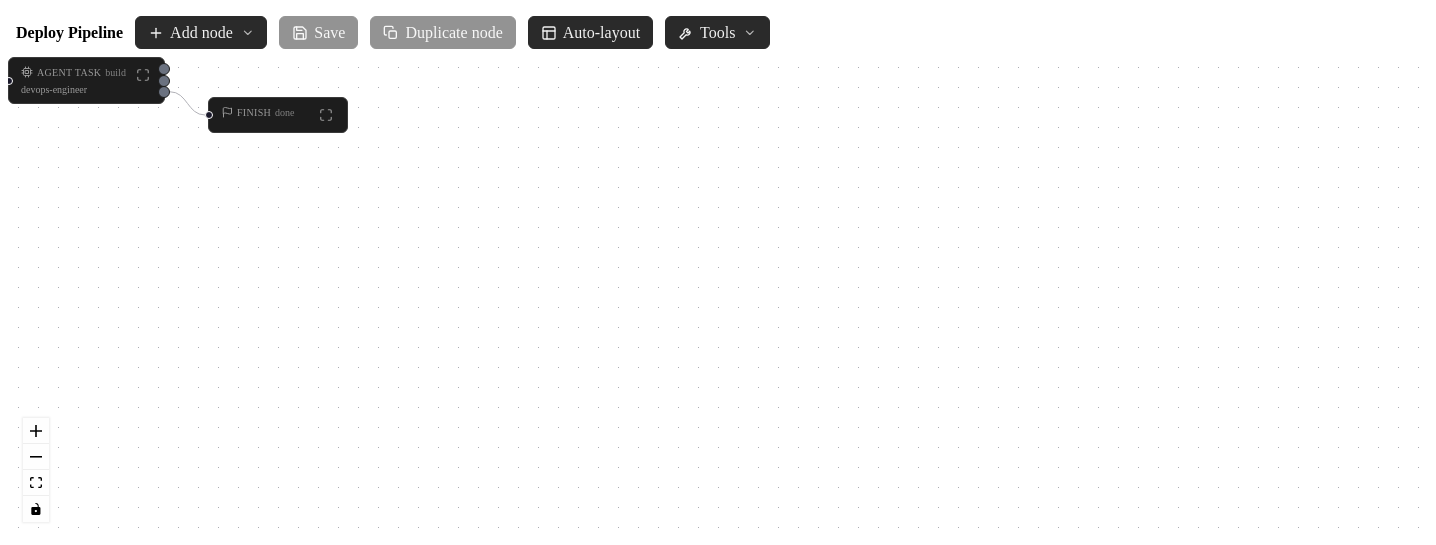
Test: FlowEditor › shows no toast when a save succeeds
The image size is (1436, 545).
What coordinates should you click on to do the following:
click the button "Auto-layout"
I would click on:
 (590, 33)
Its box is [528, 16, 653, 49].
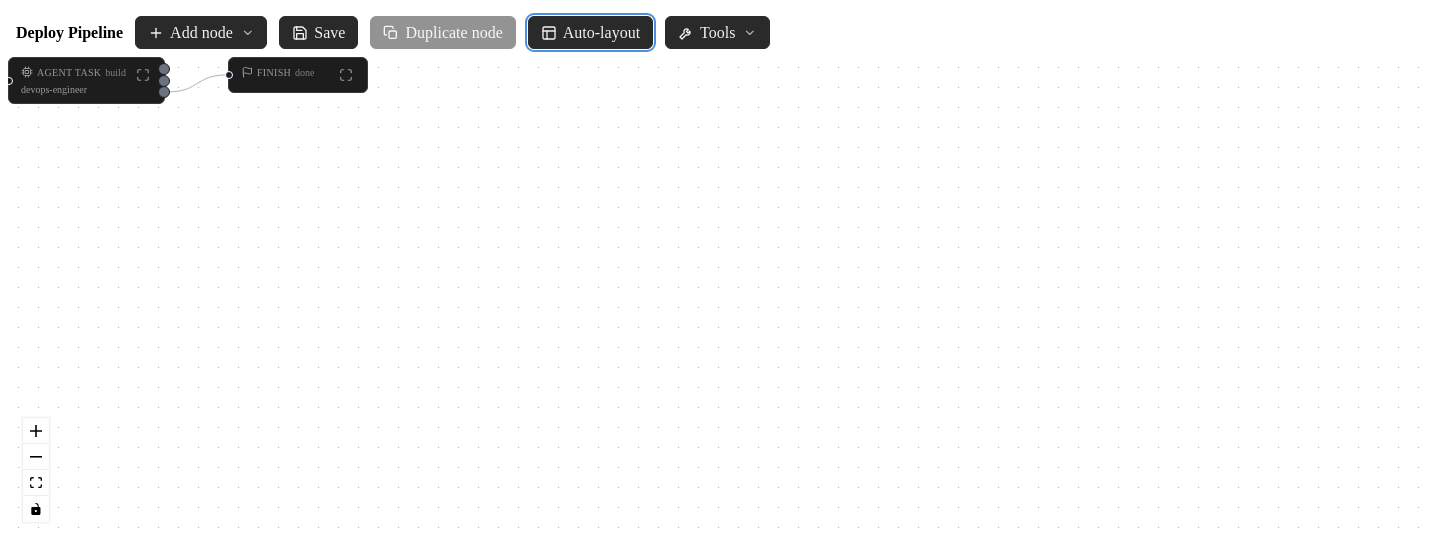
What coordinates should you click on to do the following:
click the button "Save"
I would click on:
 (319, 33)
Its box is [279, 16, 358, 49].
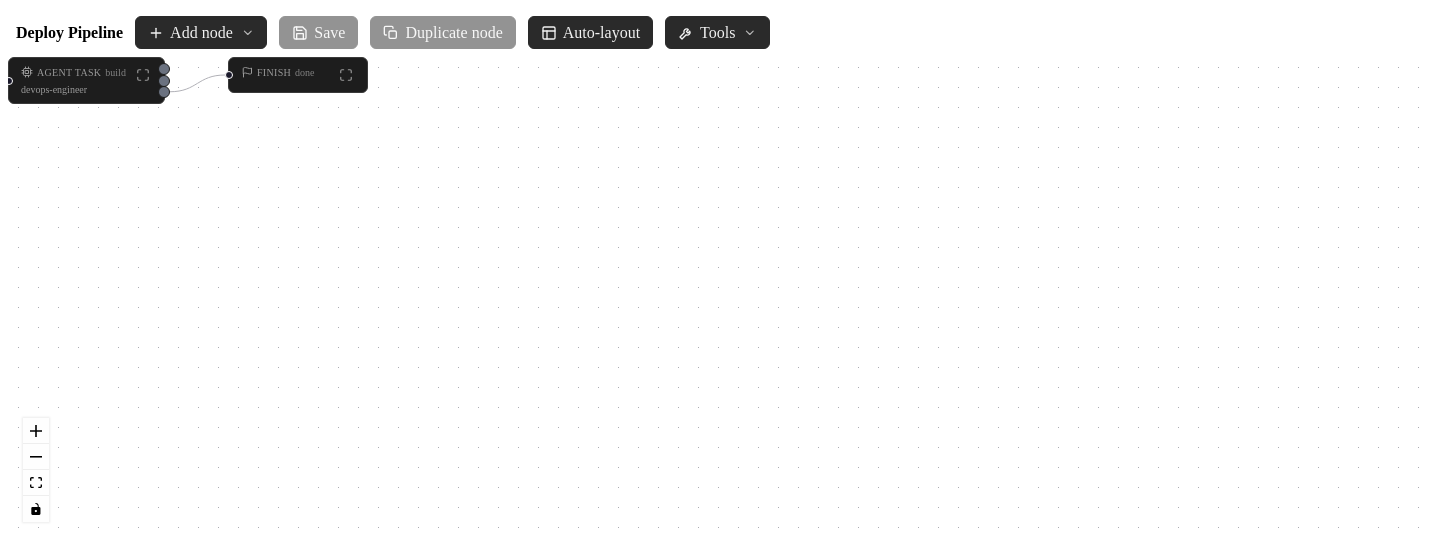
Now the button "Save" is disabled, box [279, 16, 358, 49]
